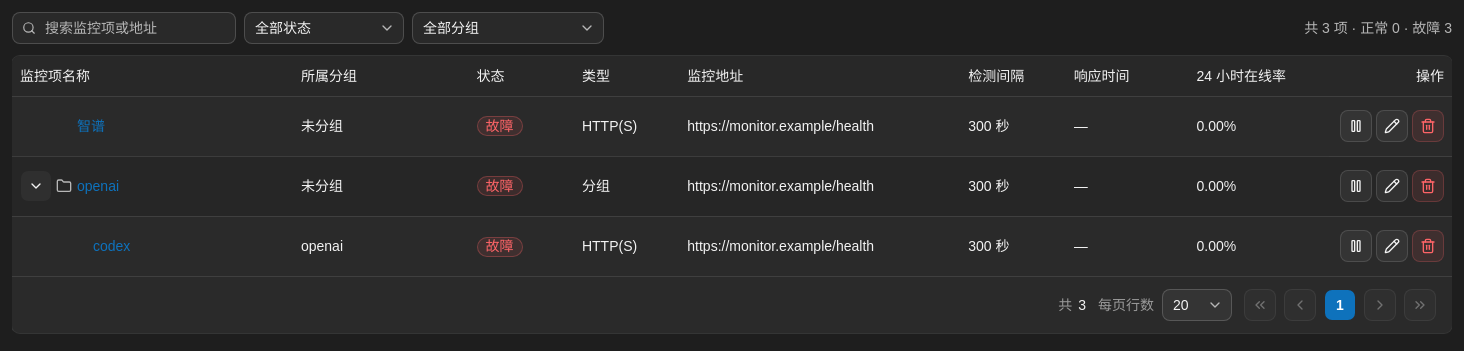
监控分组 › 父组位于子项之后返回时，仍按层级展示且折叠仅隐藏该组子项
Expected: the 2nd text "openai" is shown, [301,238,343,254]
Click the button named "收起分组 openai" at (36, 186), box [20,170,52,202]
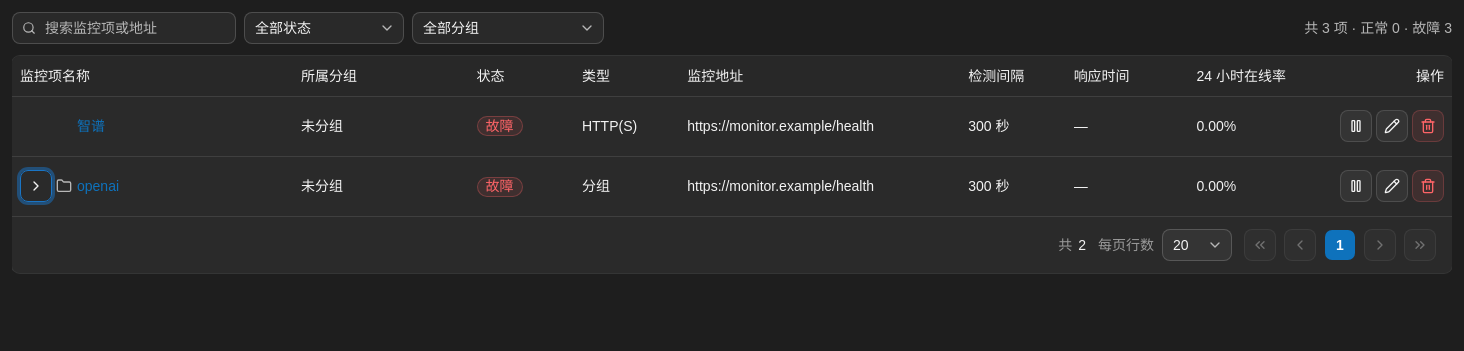
Expected: the button with aria-label "查看 智谱 详情" is shown, [76,110,285,142]
Press Enter
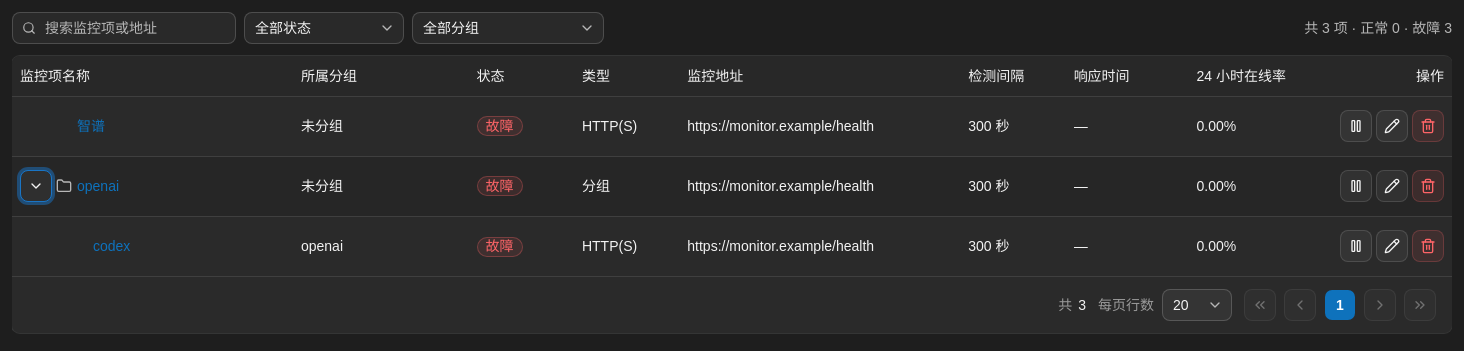
Expected: the button with aria-label "查看 codex 详情" is shown, [92,230,285,262]
